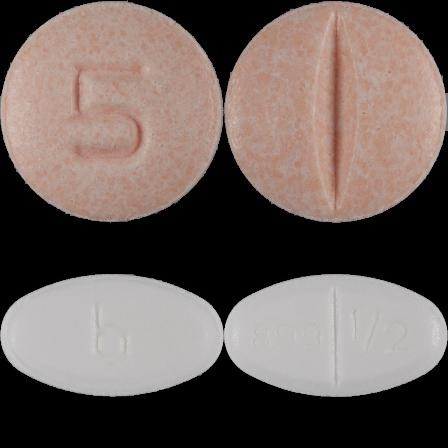0179-1988: (0, 0, 224, 224)
